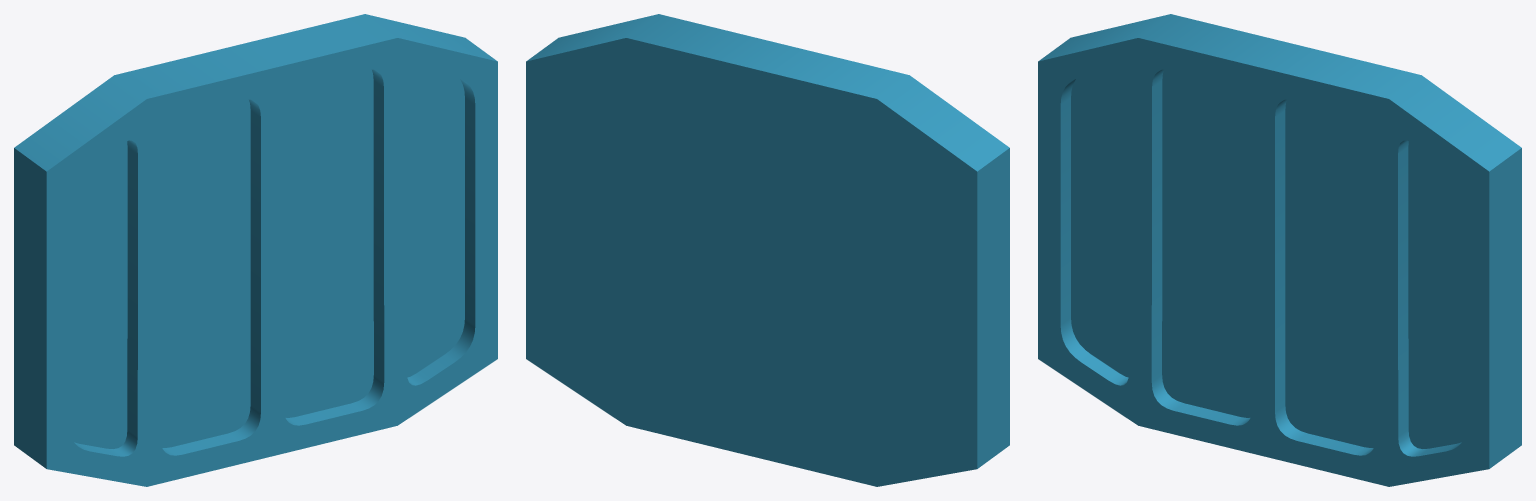
Rendered from Pereborka_End.FBX.
The picture shows the model from 3 angles, left to right: view 1: azimuth 30°, elevation 25°; view 2: azimuth 150°, elevation 25°; view 3: azimuth 330°, elevation 25°; orthographic projection.
Visible parts, largest first — view 1: Pereborka_End; view 2: Pereborka_End; view 3: Pereborka_End.
Part boxes in pixels (left/top/right/bottom): Pereborka_End: left=14, top=14, right=497, bottom=486; Pereborka_End: left=526, top=14, right=1009, bottom=486; Pereborka_End: left=1038, top=14, right=1521, bottom=486.
Size of the model in its own units: 800 by 657 by 100.
